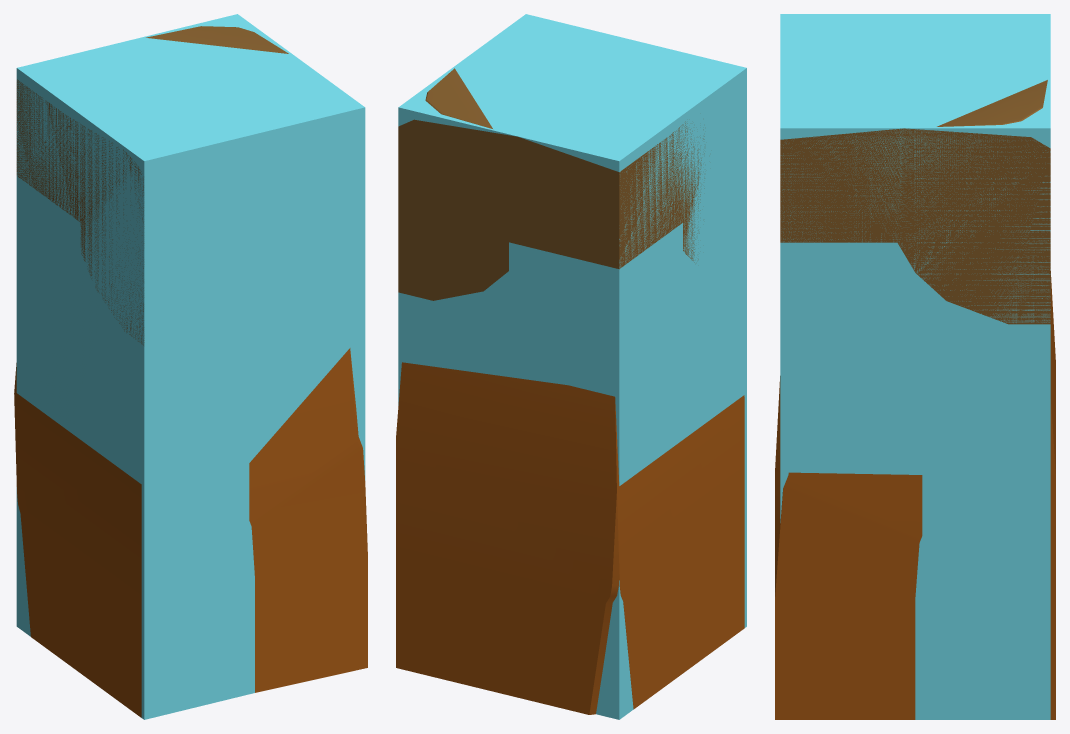
The model's file is PBOX1_Mud_04.FBX.
3 views of the same model, side by side, from view 1: azimuth 30°, elevation 25°; view 2: azimuth 150°, elevation 25°; view 3: azimuth 270°, elevation 25° (orthographic). The views are drawn at different scales.
Visible parts, largest first — view 1: PBOX1_Mud_04, PBOX1_SUB_TAB_MUD_006, PBOX1_SUB_Mud_04; view 2: PBOX1_SUB_TAB_MUD_006, PBOX1_Mud_04, PBOX1_SUB_Mud_04; view 3: PBOX1_Mud_04, PBOX1_SUB_Mud_04, PBOX1_SUB_TAB_MUD_006.
Boxes of the visible parts, left/top/right/bottom form: PBOX1_Mud_04: left=16, top=14, right=365, bottom=719; PBOX1_SUB_TAB_MUD_006: left=14, top=348, right=367, bottom=717; PBOX1_SUB_Mud_04: left=16, top=26, right=288, bottom=345; PBOX1_SUB_TAB_MUD_006: left=396, top=362, right=744, bottom=714; PBOX1_Mud_04: left=398, top=14, right=746, bottom=719; PBOX1_SUB_Mud_04: left=398, top=68, right=704, bottom=300; PBOX1_Mud_04: left=780, top=14, right=1050, bottom=719; PBOX1_SUB_Mud_04: left=780, top=80, right=1050, bottom=324; PBOX1_SUB_TAB_MUD_006: left=775, top=271, right=1055, bottom=719.
Bounding box in the file's own units: 6.01 × 14.51 × 6.24.
